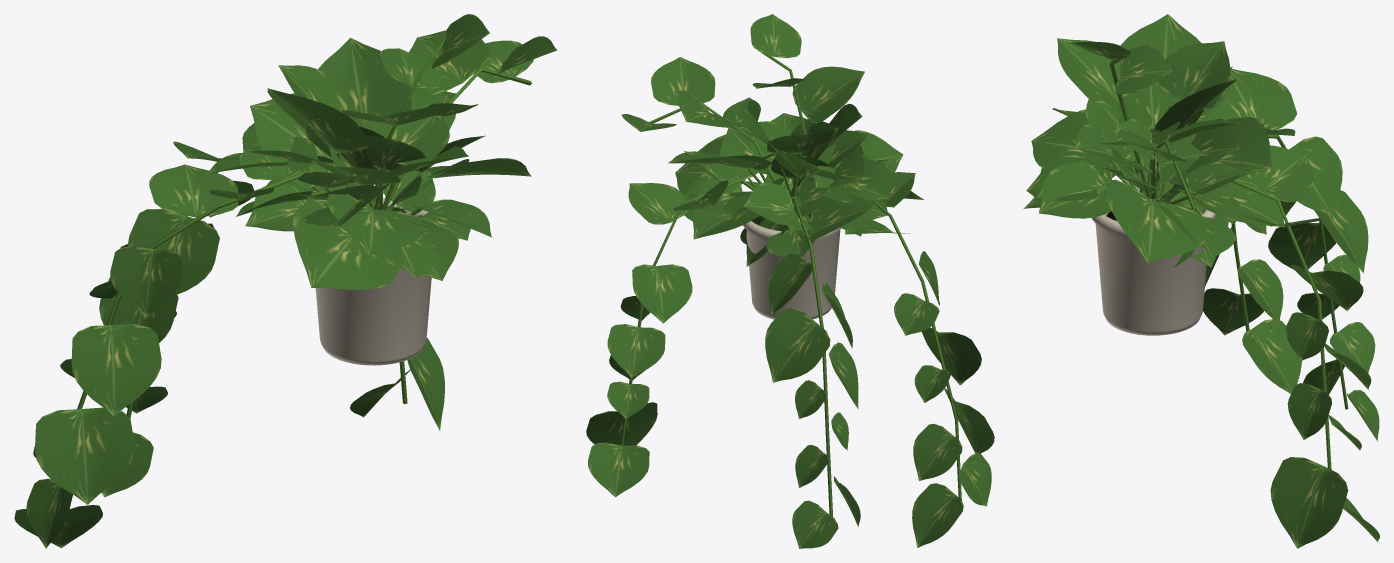
The model's file is shelf-plant.glb.
3 renders of one model, left to right at view 1: azimuth 30°, elevation 25°; view 2: azimuth 150°, elevation 25°; view 3: azimuth 270°, elevation 25°, orthographic. The views are drawn at different scales.
Visible parts, largest first — view 1: shelf_plant_leaves, shelf_plant_pot; view 2: shelf_plant_leaves, shelf_plant_pot; view 3: shelf_plant_leaves, shelf_plant_pot.
Part boxes in pixels (x1,y1,x2,y2): shelf_plant_leaves: (14, 14, 557, 548); shelf_plant_pot: (315, 198, 431, 365); shelf_plant_leaves: (586, 14, 994, 548); shelf_plant_pot: (743, 221, 840, 319); shelf_plant_leaves: (1023, 14, 1379, 548); shelf_plant_pot: (1091, 180, 1215, 335).
Size of the model in its own units: 0.3807 by 0.3966 by 0.2578.
Materials: 4 (1 with a texture image).
